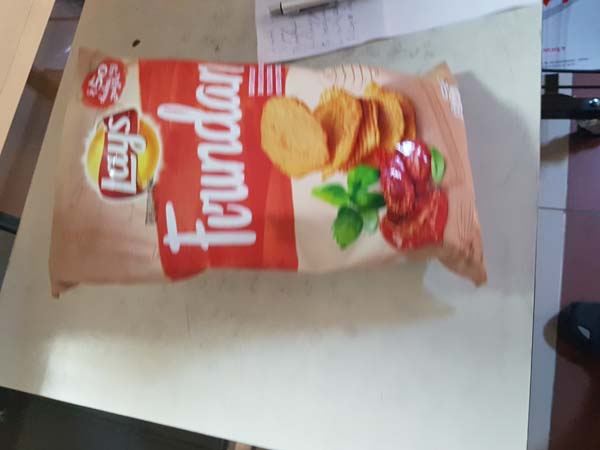laysfirindan: (45, 40, 495, 288)
